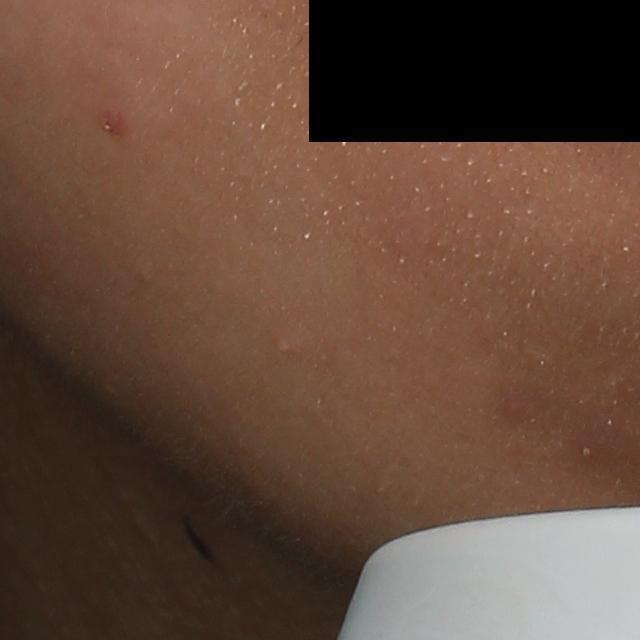comedo: (273, 337, 290, 355)
papule: (96, 106, 131, 142)
